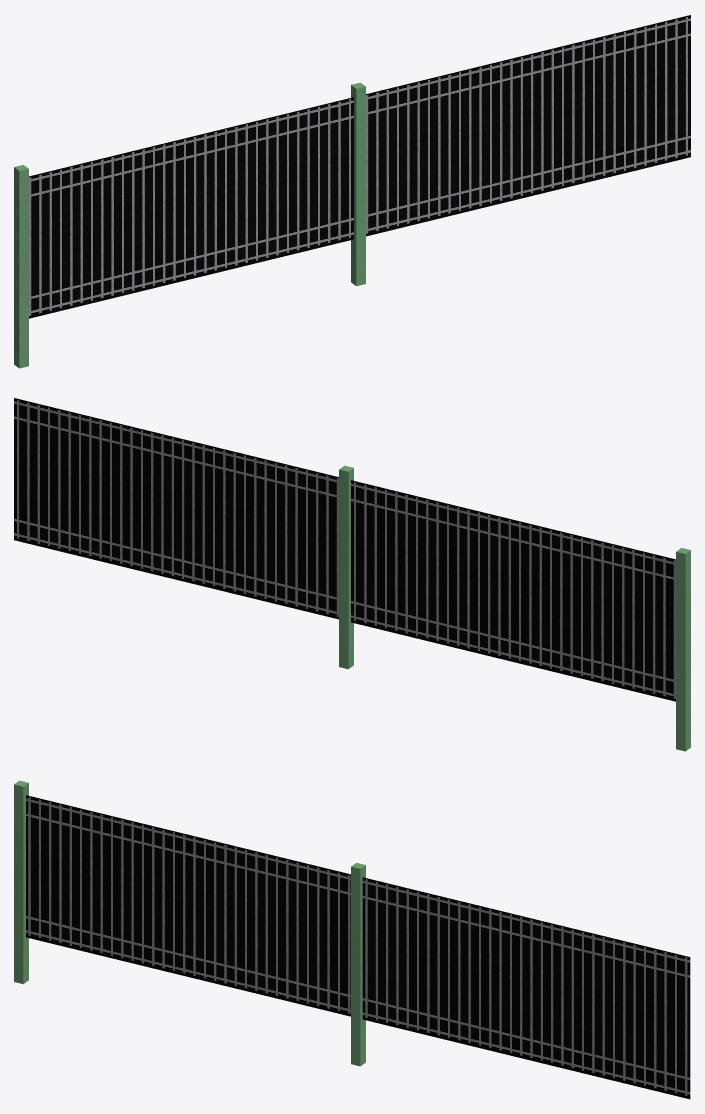
The model's file is fence-mesh-2s-cbj_LOD00.gltf.
3 views of the same model, one above another, from view 1: azimuth 30°, elevation 25°; view 2: azimuth 150°, elevation 25°; view 3: azimuth 330°, elevation 25° (orthographic).
Visible parts, largest first — view 1: post; view 2: post; view 3: post.
Part boxes in pixels (x1=…): post: x1=14, y1=15, x2=690, y2=368; post: x1=14, y1=398, x2=690, y2=751; post: x1=14, y1=780, x2=690, y2=1099.
Bounding box in the file's own units: 5 × 1.4 × 0.07.
